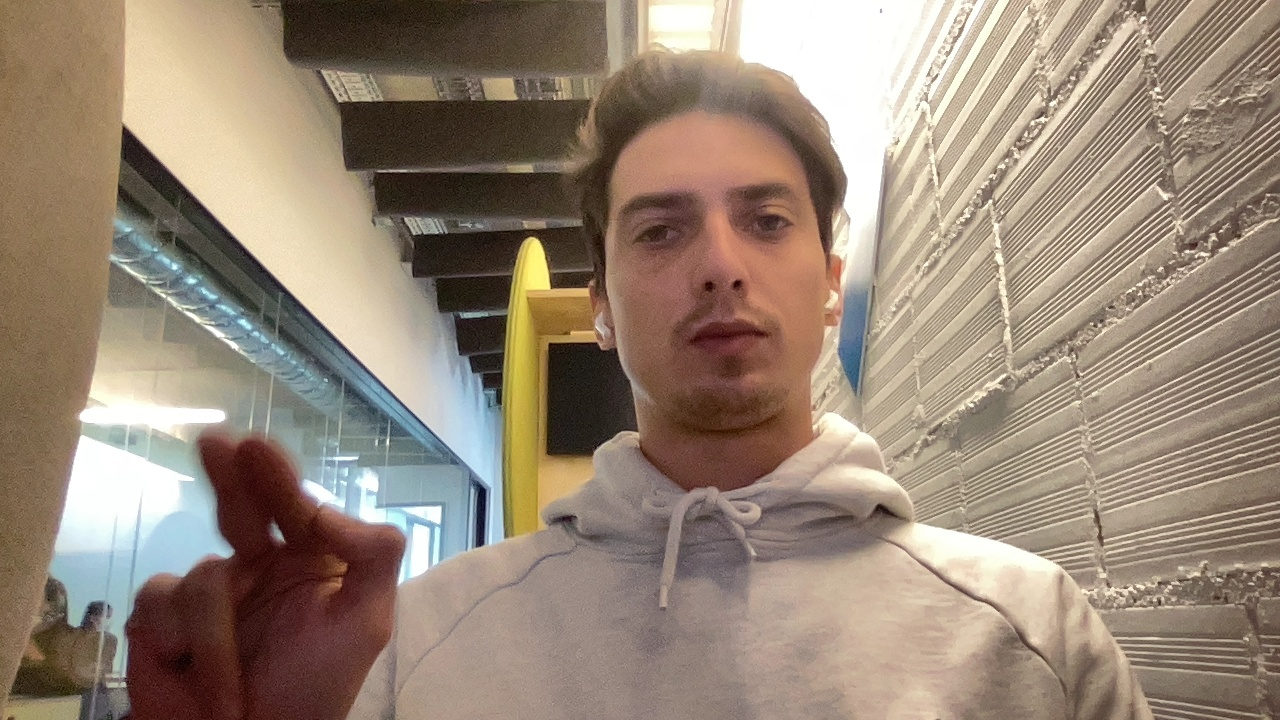no: (55, 386, 425, 710)
